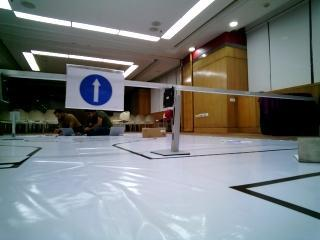straight: (65, 65, 125, 109)
